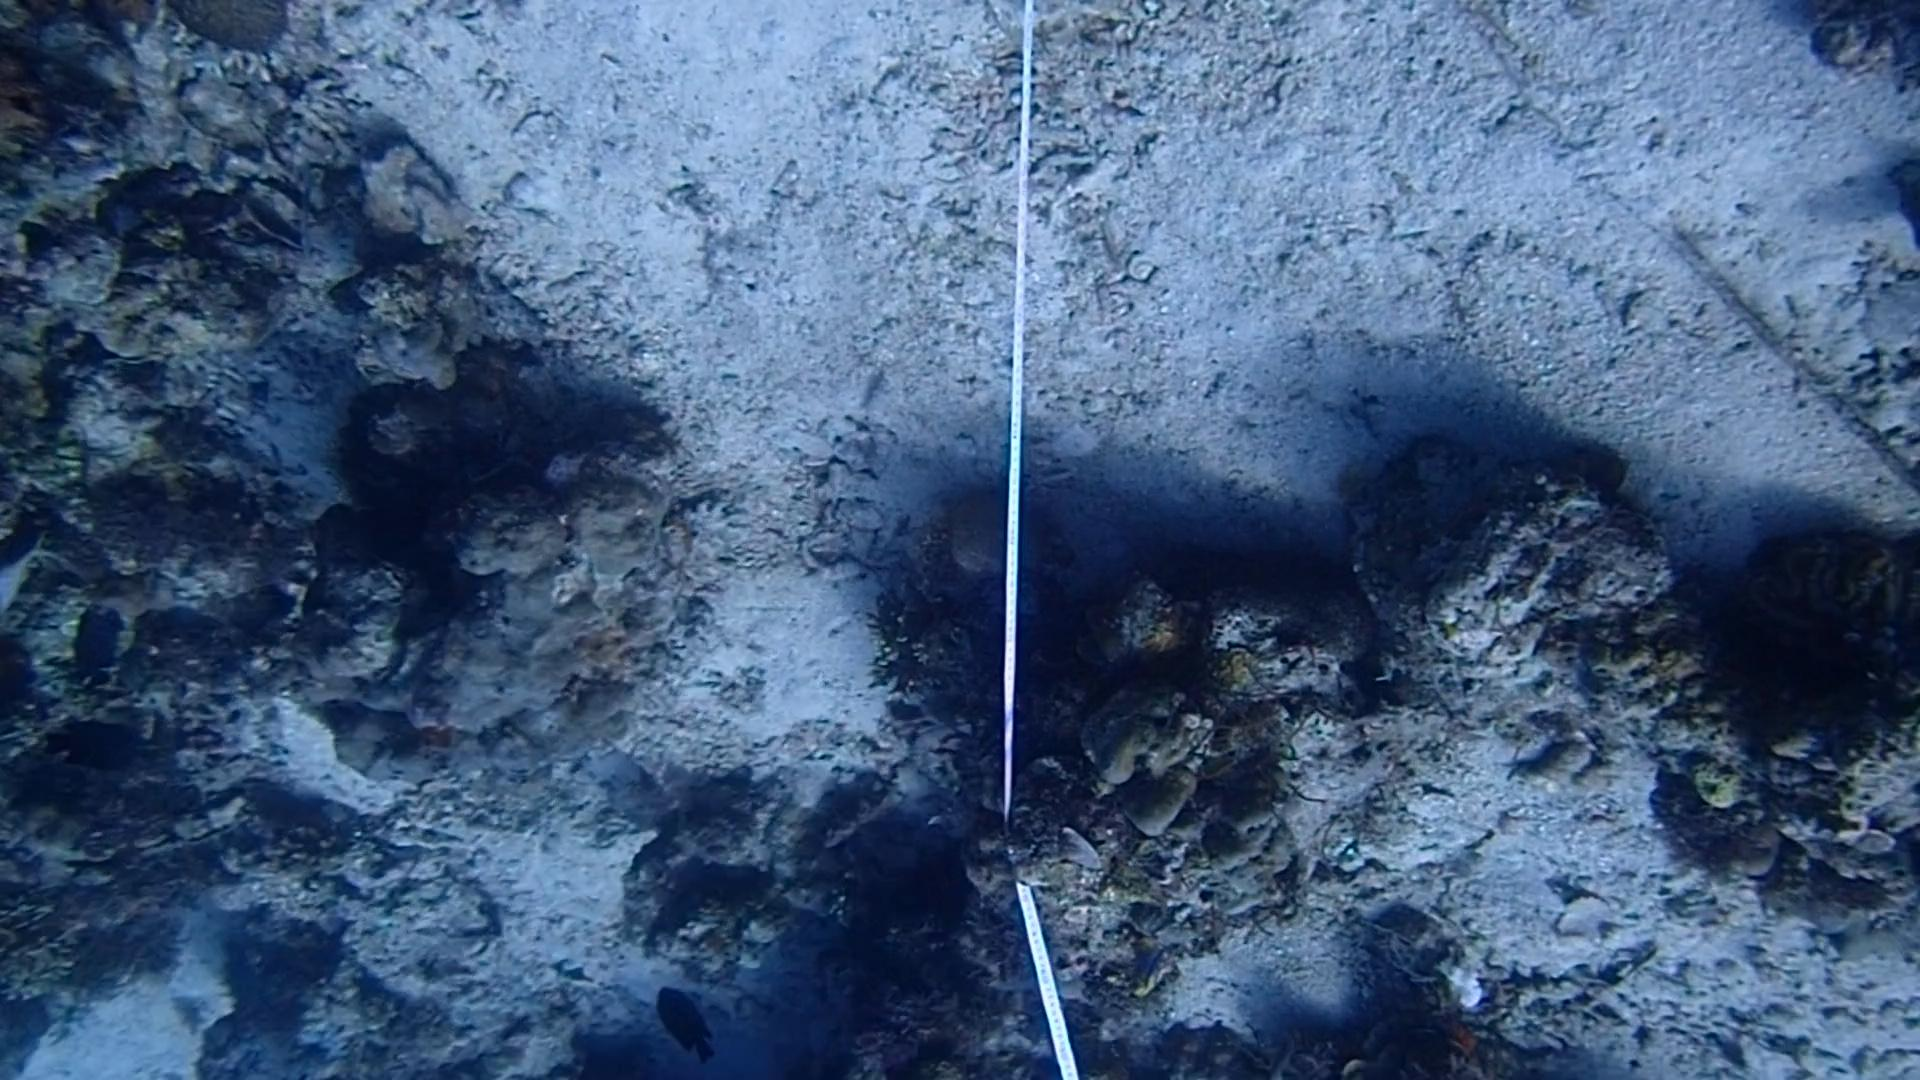Dark Fish: (47, 709, 160, 787), (59, 608, 129, 699), (647, 981, 720, 1062)
